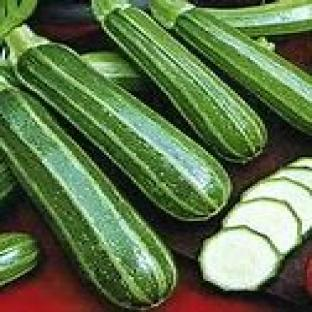Zucchini: (8, 28, 230, 220), (0, 80, 175, 308), (199, 227, 282, 290), (223, 198, 302, 253), (241, 179, 311, 234), (82, 51, 146, 91), (0, 233, 39, 286), (270, 163, 311, 189), (0, 156, 17, 205), (288, 157, 311, 168)
